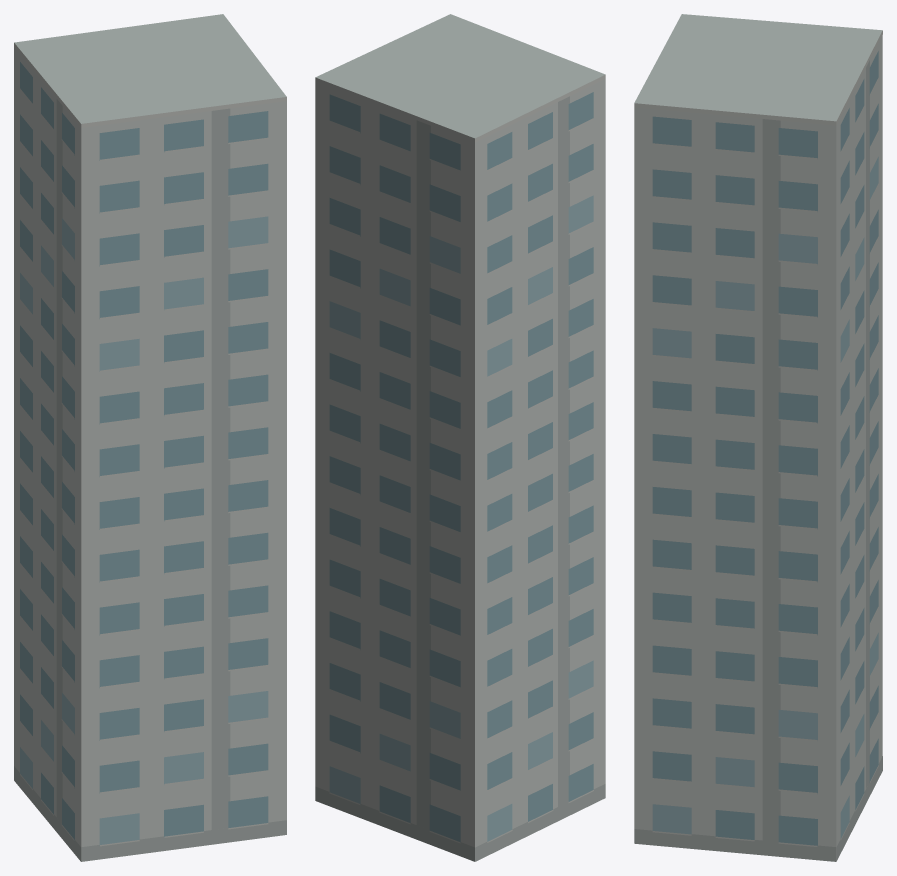
The model's file is survey-upis-32966331.glb.
The picture shows the model from 3 angles, left to right: view 1: azimuth 30°, elevation 25°; view 2: azimuth 150°, elevation 25°; view 3: azimuth 270°, elevation 25°; orthographic projection. The views are drawn at different scales.
Parts seen in each view (by area): view 1: survey-upis-32966331.tmp; view 2: survey-upis-32966331.tmp; view 3: survey-upis-32966331.tmp.
Part boxes in pixels (x1,y1,x2,y2): survey-upis-32966331.tmp: [14, 14, 286, 861]; survey-upis-32966331.tmp: [315, 14, 605, 861]; survey-upis-32966331.tmp: [634, 14, 882, 861].
Bounding box in the file's own units: 13.29 × 42.7 × 13.
